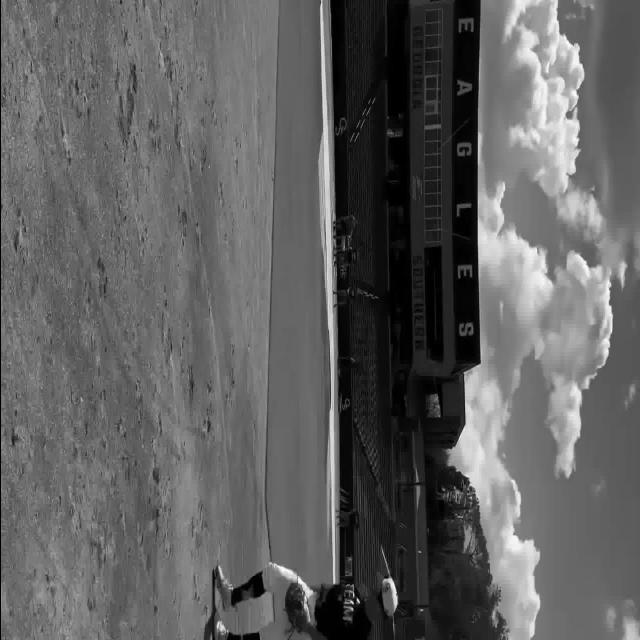baseball_glove: (284, 582, 310, 631)
shoe: (212, 565, 231, 613), (211, 611, 228, 640)
